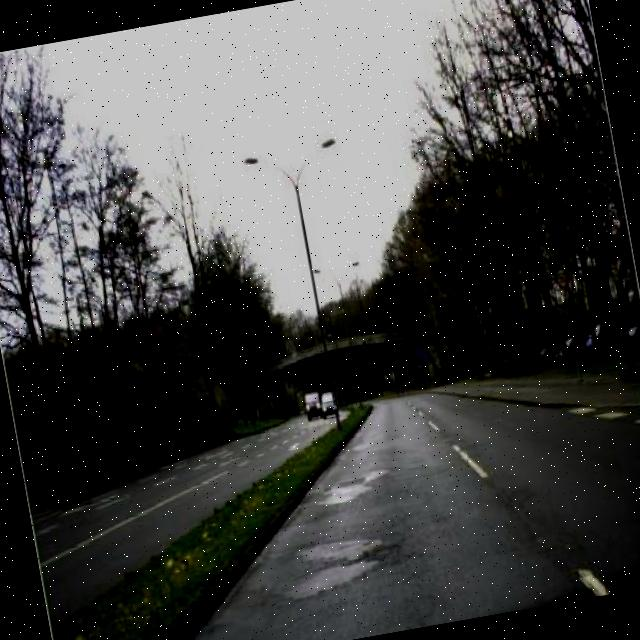Ograniczenie predkosci do 50: (550, 262, 570, 290)
